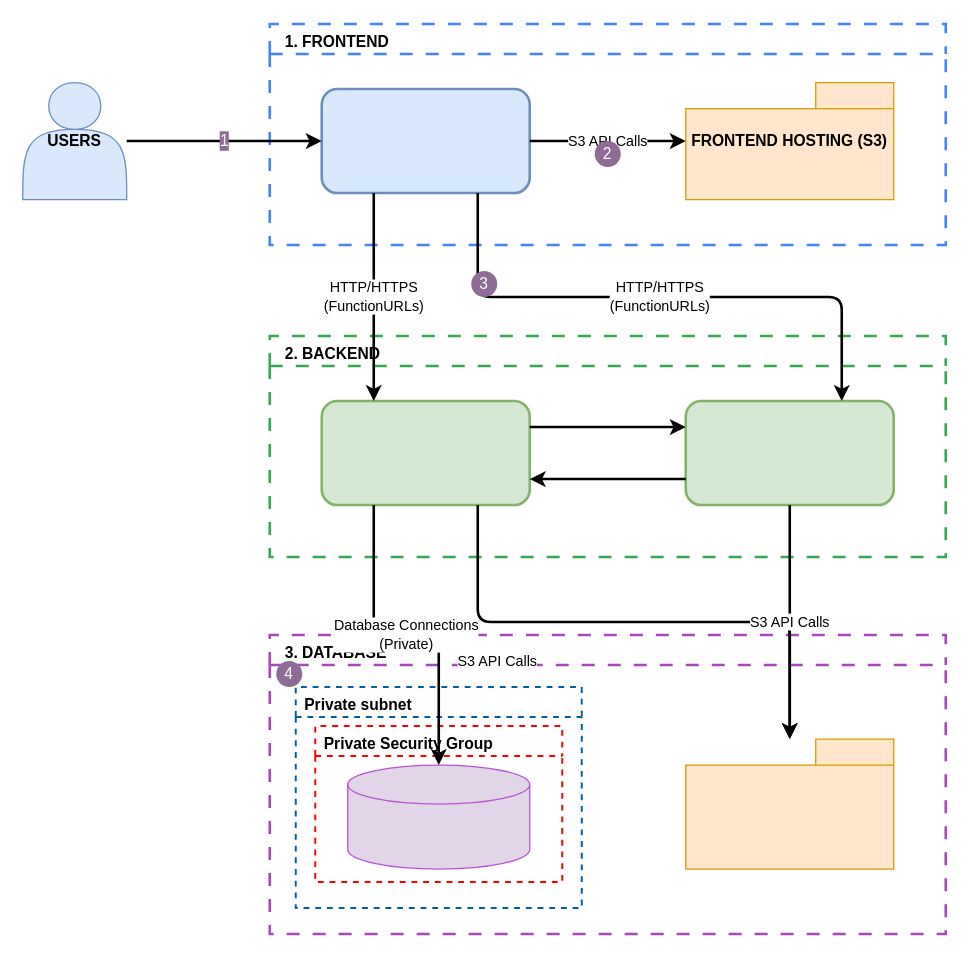
Image size: 970x957. Some labels were removed from this diagram. Here are the shapes that lost their labels. From the top down, the centre of each, then its label:
At pixel 425 140: "WEB APPLICATION (REACT/NEXT.JS)".
At pixel 425 452: "C# WEB API (LAMBDA)".
At pixel 789 452: "NODE.JS FUNCTIONS (LAMBDA)".
At pixel 438 816: "AMAZON RDS POSTGRESQL (PRIVATE SG)".
At pixel 789 803: "MEDIA ASSETS (S3 STORAGE)".
